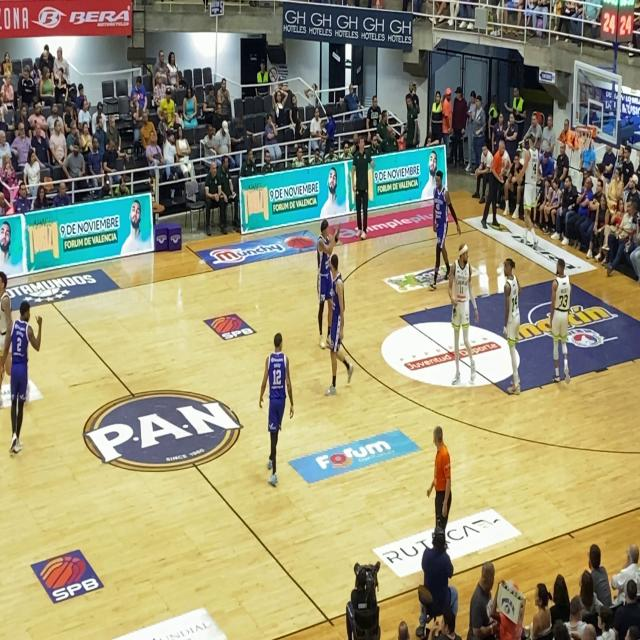team1: (544, 248, 576, 394), (494, 245, 524, 392)
team2: (252, 324, 294, 486), (6, 292, 43, 456), (423, 159, 454, 286)
ubasket: (576, 124, 594, 156)
